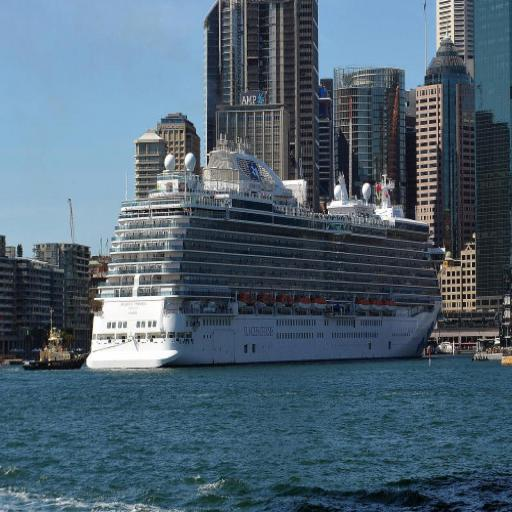cruises: (82, 131, 444, 374)
